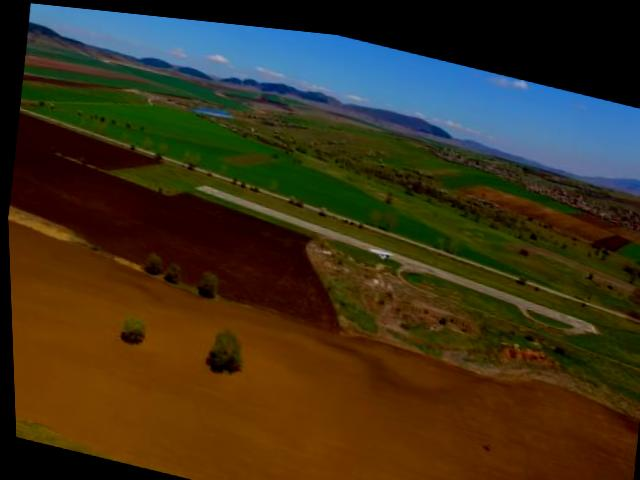uav: (363, 231, 399, 262)
